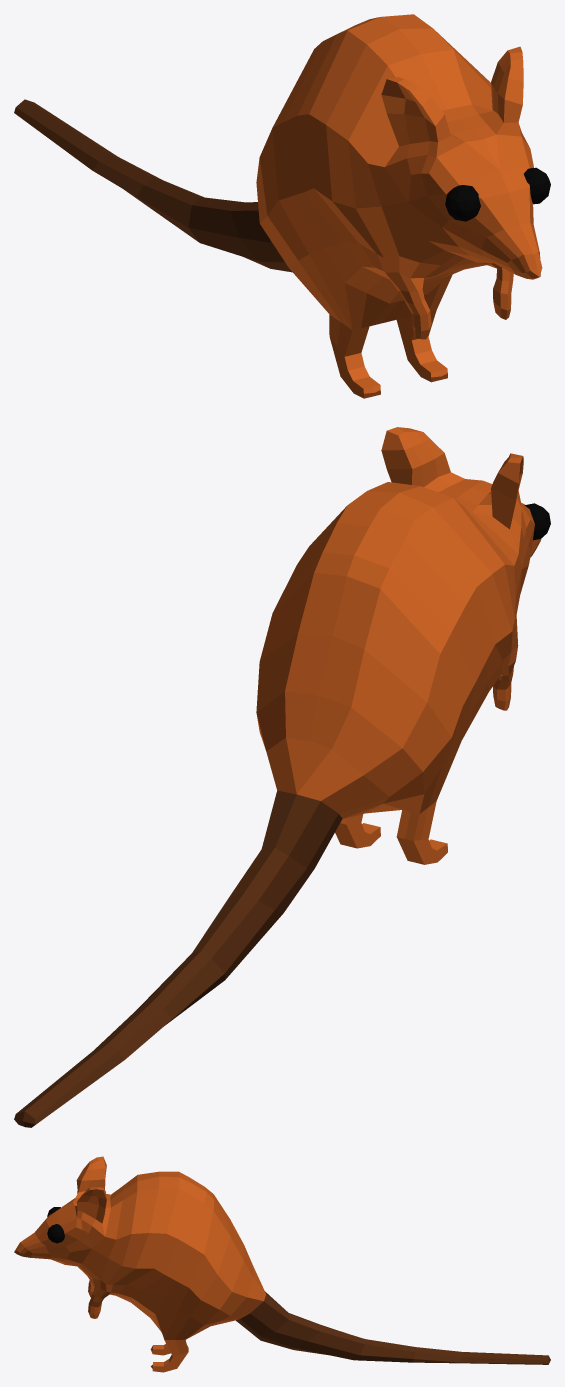
The model's file is dunnart.obj.
3 views of the same model, one above another, from view 1: azimuth 30°, elevation 25°; view 2: azimuth 150°, elevation 25°; view 3: azimuth 270°, elevation 25° (orthographic). The views are drawn at different scales.
Visible parts, largest first — view 1: M_body_, M_eyes; view 2: M_body_; view 3: M_body_, M_eyes.
Part boxes in pixels (x1,y1,x2,y2): M_body_: (14,14,542,398); M_eyes: (445,167,550,221); M_body_: (14,427,541,1127); M_body_: (14,1156,550,1372); M_eyes: (47,1207,64,1243).
Size of the model in its own units: 2.26 by 4.29 by 10.96.
